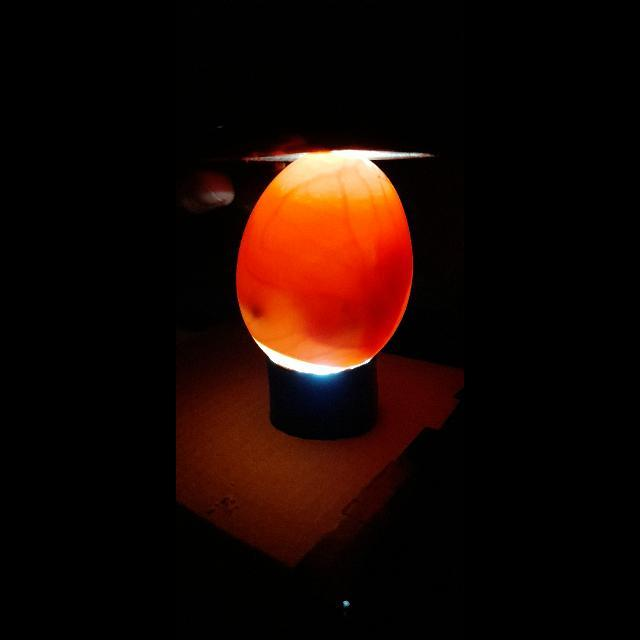Fertile: (233, 150, 419, 376)
